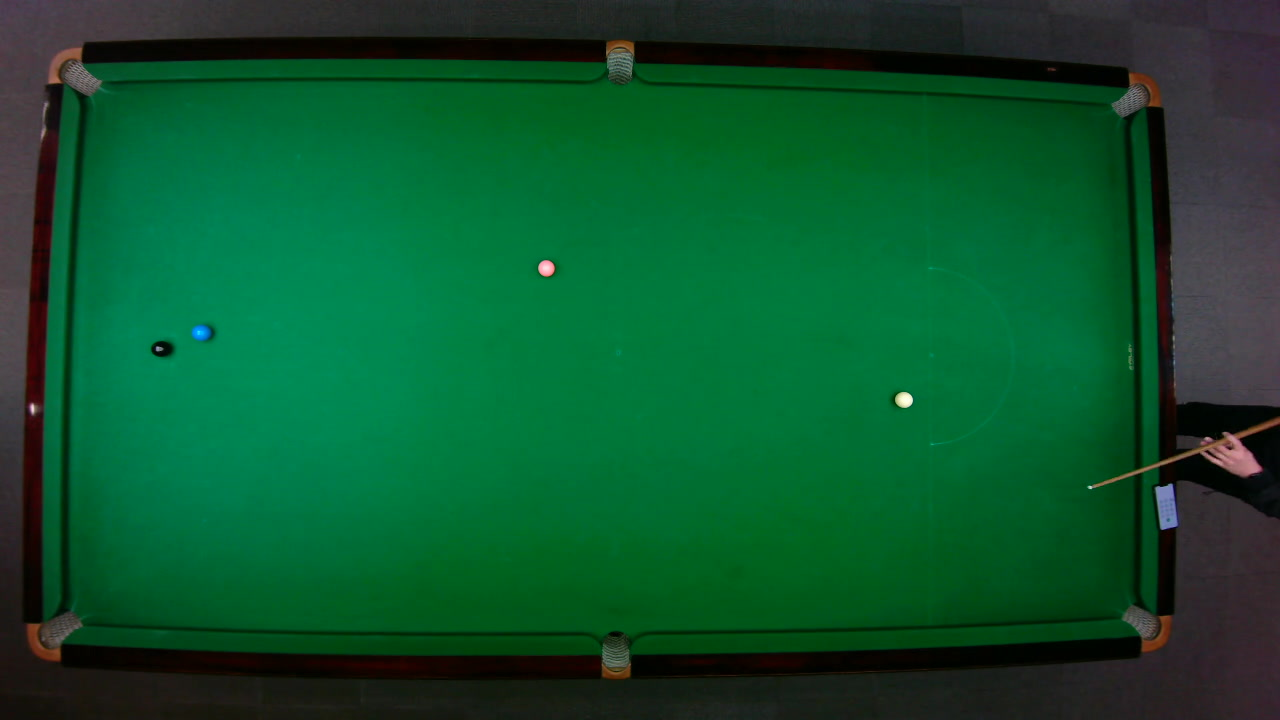bag: (25, 609, 83, 662), (45, 46, 102, 96), (1119, 603, 1172, 652), (1108, 71, 1161, 118), (600, 629, 629, 680), (605, 38, 633, 85)
black: (149, 339, 171, 357)
blue: (190, 323, 212, 341)
cue: (1087, 414, 1280, 489)
pink: (536, 258, 555, 277)
white: (893, 390, 914, 408)
zone: (927, 265, 1013, 445)
